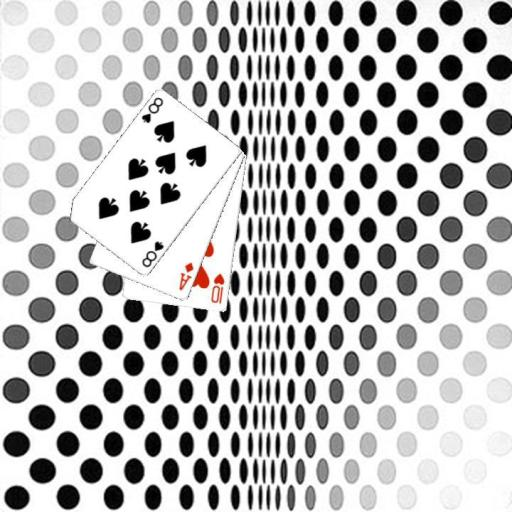10H: (208, 270, 226, 305)
8S: (139, 238, 166, 270), (138, 94, 165, 125)
AD: (176, 260, 196, 292)
